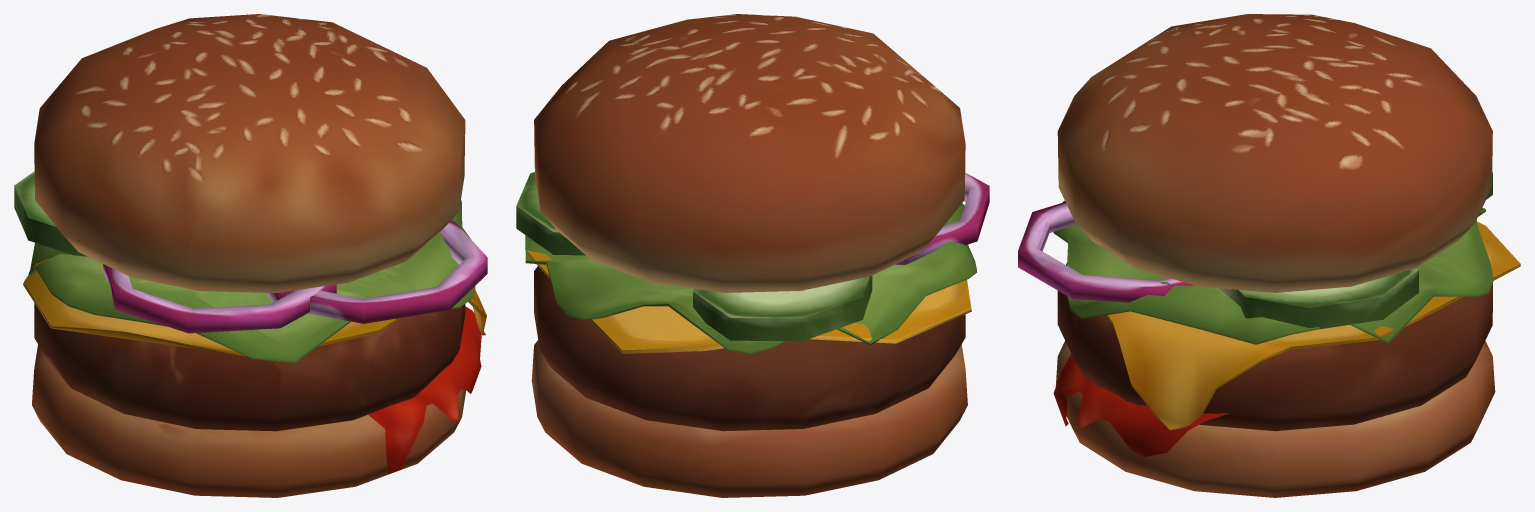
Rendered from burgerall.fbx.
3 views of the same model, side by side, from view 1: azimuth 30°, elevation 25°; view 2: azimuth 150°, elevation 25°; view 3: azimuth 270°, elevation 25° (orthographic).
Visible parts, largest first — view 1: burgerbreadtop.001, burgermeat.001, burgerall, salad.001, onionslice.002, onionslice.001, cheeseslice.001, ketchuponbread.001, cumcumberslice.001; view 2: burgerbreadtop.001, burgermeat.001, burgerall, salad.001, cumcumberslice.001, cheeseslice.001, onionslice.001, cumcumberslice.002; view 3: burgerbreadtop.001, burgermeat.001, burgerall, cheeseslice.001, salad.001, cumcumberslice.002, onionslice.002, ketchuponbread.001.
Part boxes in pixels (x1,y1,x2,y2): burgerbreadtop.001: (34, 14, 465, 292); burgermeat.001: (34, 303, 465, 431); burgerall: (32, 344, 466, 497); salad.001: (28, 200, 474, 362); onionslice.002: (265, 220, 487, 323); onionslice.001: (103, 264, 336, 333); cheeseslice.001: (23, 254, 486, 356); ketchuponbread.001: (368, 306, 481, 473); cumcumberslice.001: (14, 171, 87, 256); burgerbreadtop.001: (534, 14, 965, 292); burgermeat.001: (534, 266, 965, 431); burgerall: (531, 340, 967, 497); salad.001: (525, 203, 976, 353); cumcumberslice.001: (693, 276, 872, 341); cheeseslice.001: (527, 250, 971, 353); onionslice.001: (895, 172, 989, 265); cumcumberslice.002: (516, 172, 585, 255); burgerbreadtop.001: (1057, 14, 1492, 292); burgermeat.001: (1057, 262, 1492, 431); burgerall: (1055, 341, 1495, 497); cheeseslice.001: (1106, 221, 1520, 430); salad.001: (1053, 200, 1493, 344); cumcumberslice.002: (1219, 268, 1418, 329); onionslice.002: (1018, 202, 1193, 302); ketchuponbread.001: (1053, 354, 1229, 456).
Size of the model in its own units: 31.82 by 25.62 by 32.96.
